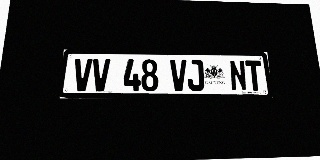4: (123, 59, 141, 91)
8: (141, 59, 158, 91)
J: (187, 60, 204, 91)
N: (229, 60, 247, 91)
T: (245, 60, 264, 91)
V: (73, 59, 92, 91), (91, 59, 110, 91), (170, 59, 187, 91)
